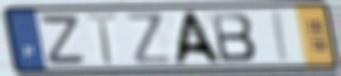A: (169, 9, 225, 66)
B: (208, 10, 258, 64)
I: (271, 9, 291, 64)
T: (84, 11, 119, 67)
Z: (124, 11, 175, 66), (40, 13, 88, 66)
